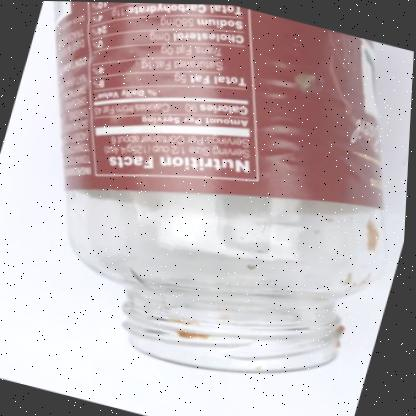Glass: (52, 1, 384, 370)
